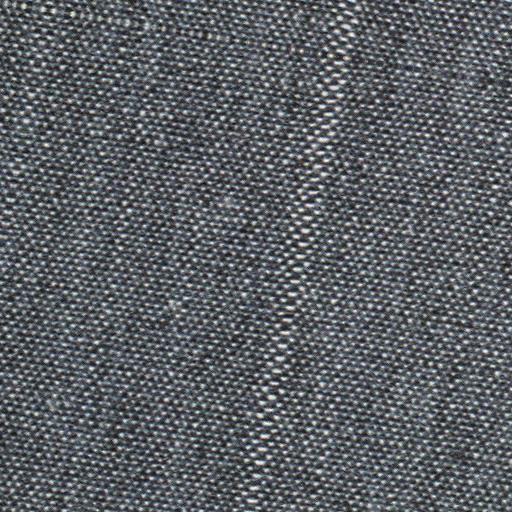slub: (234, 0, 364, 510)
